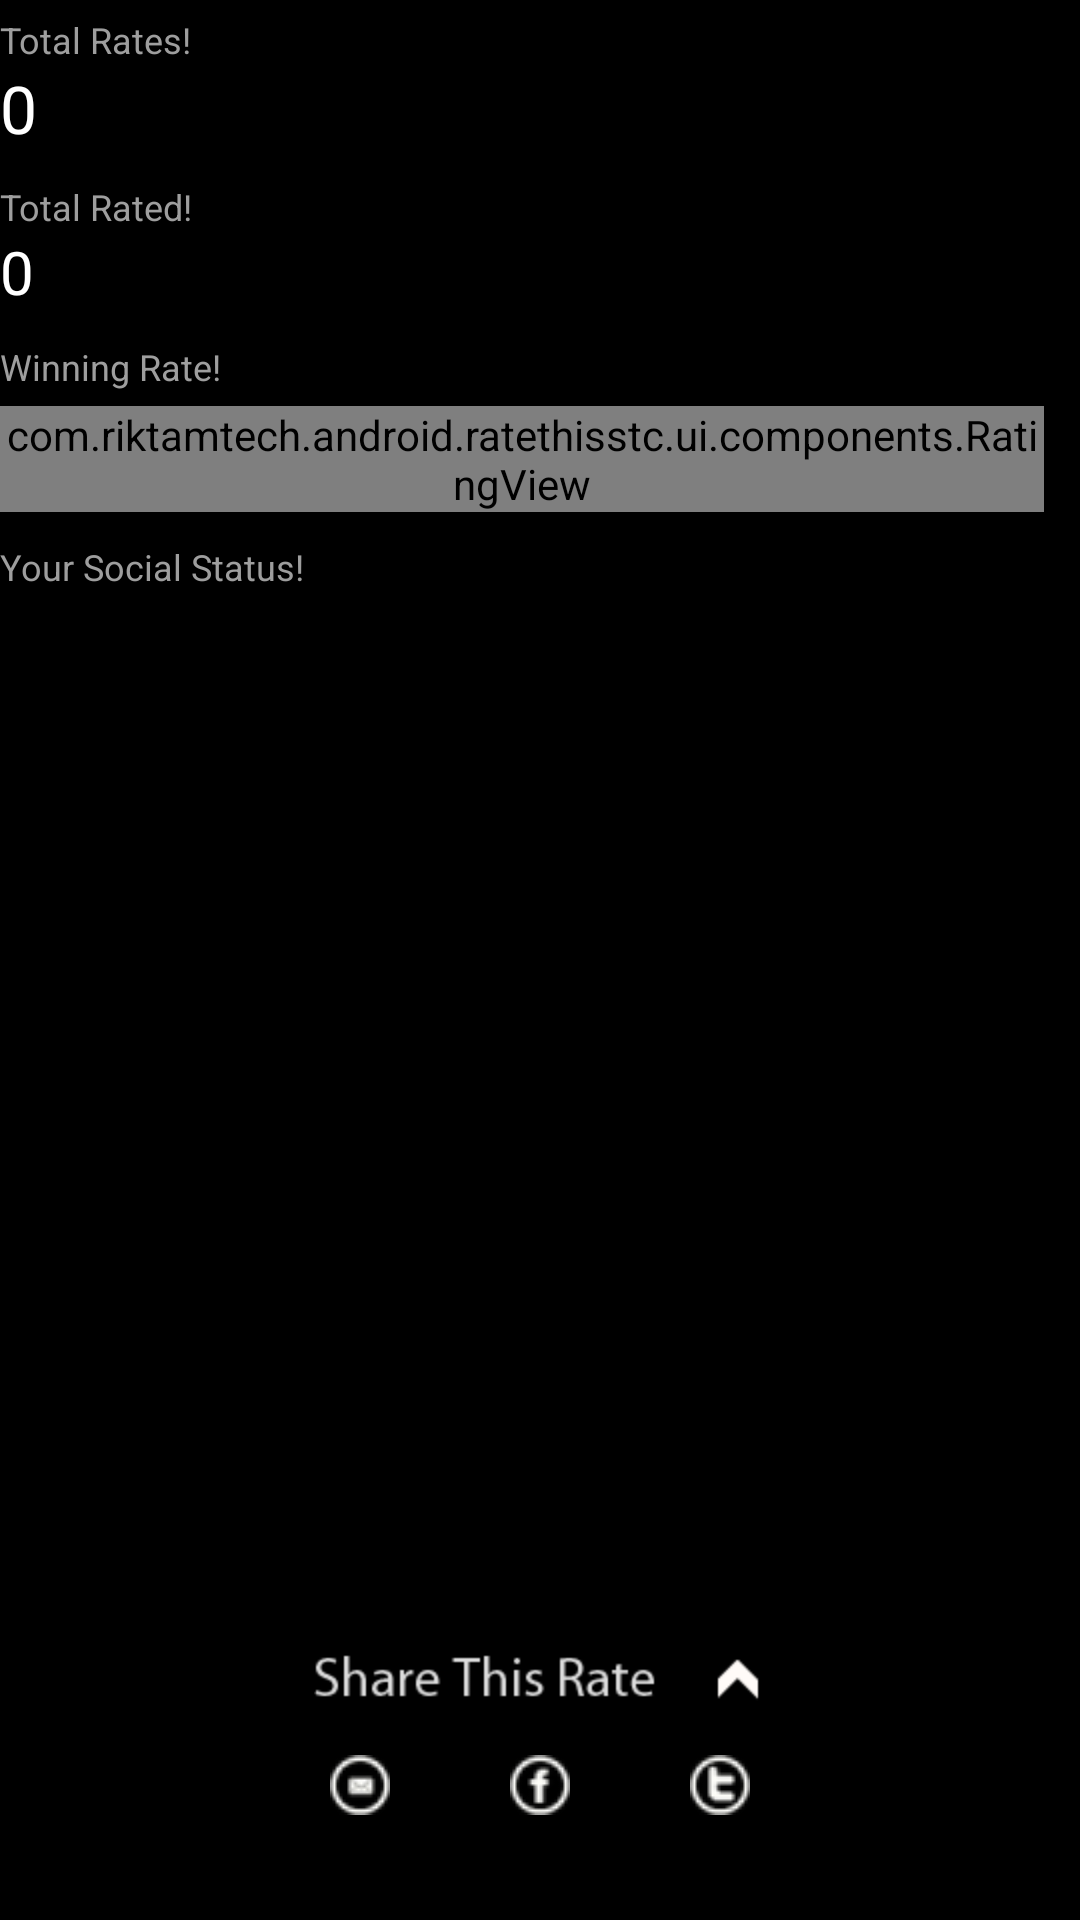

Screen size 1080×1920. Icon name, then its box in pixels as [x1, y1, x2, y2]:
email: [330, 1755, 390, 1815]
